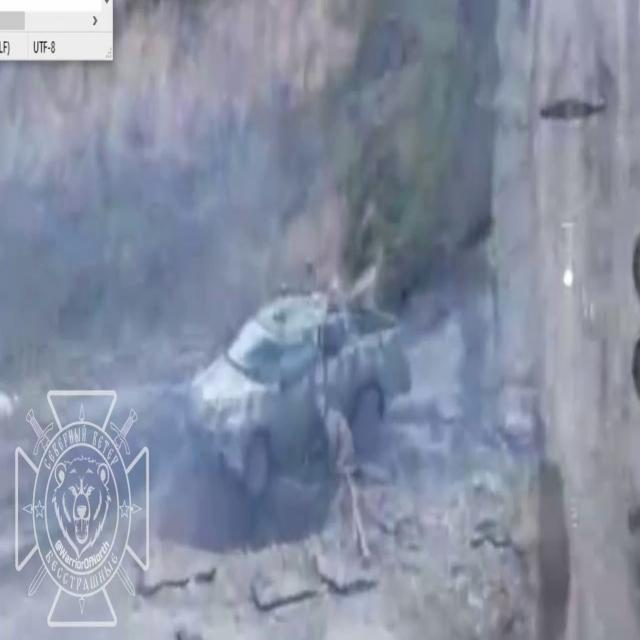infantry: (306, 376, 364, 488)
vehicle: (194, 242, 410, 504)
